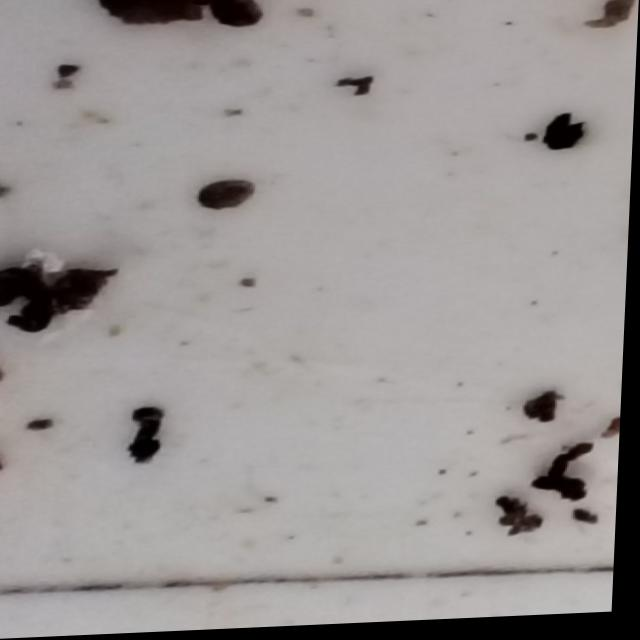varroa: (194, 180, 263, 217), (203, 1, 270, 36), (1, 268, 36, 310)
